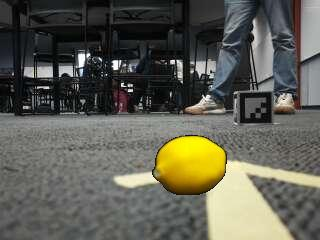lemon: (154, 137, 226, 195)
